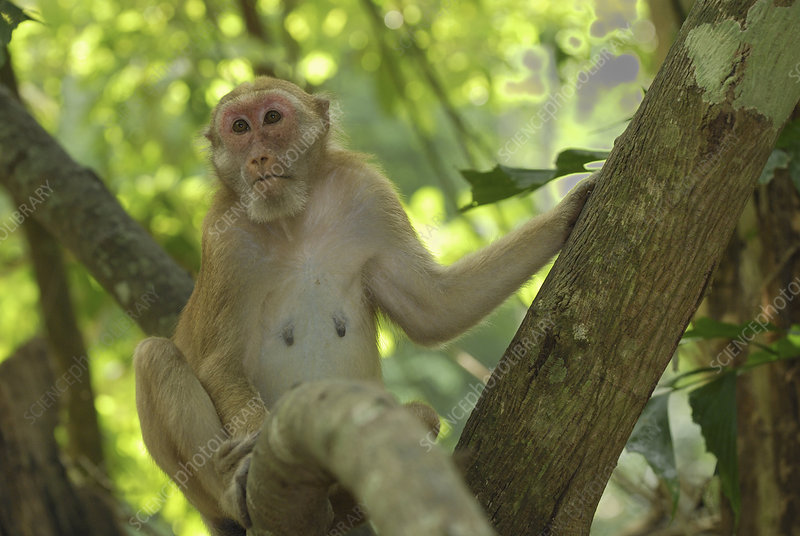monkey: (135, 60, 575, 524)
